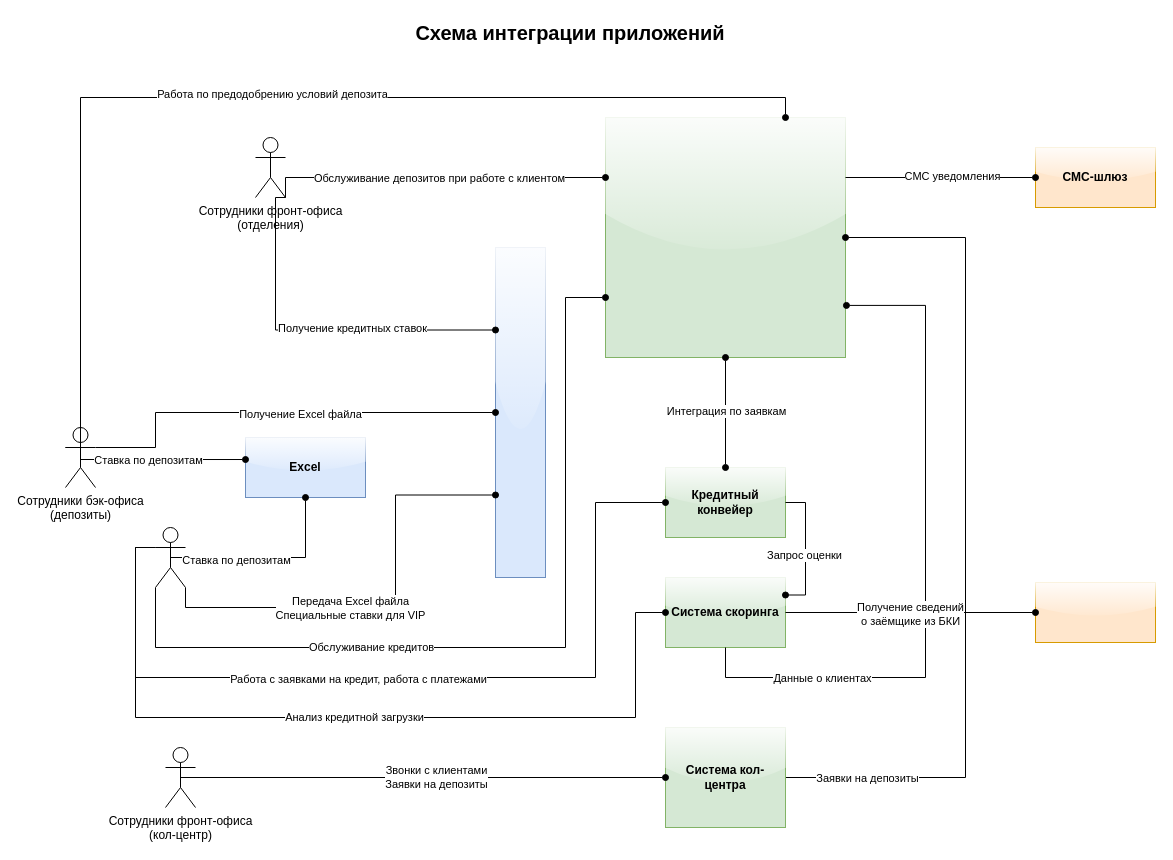
Image size: 1173x860. Some labels were removed from this diagram. The shapes that lost their labels are listed below. From the top down, each one's centre as x and y in pixels, then its label:
[725,237]: АБС
[520,412]: Email
[170,557]: Сотрудники бэк-офиса (кредиты)
[1095,612]: БКИ
